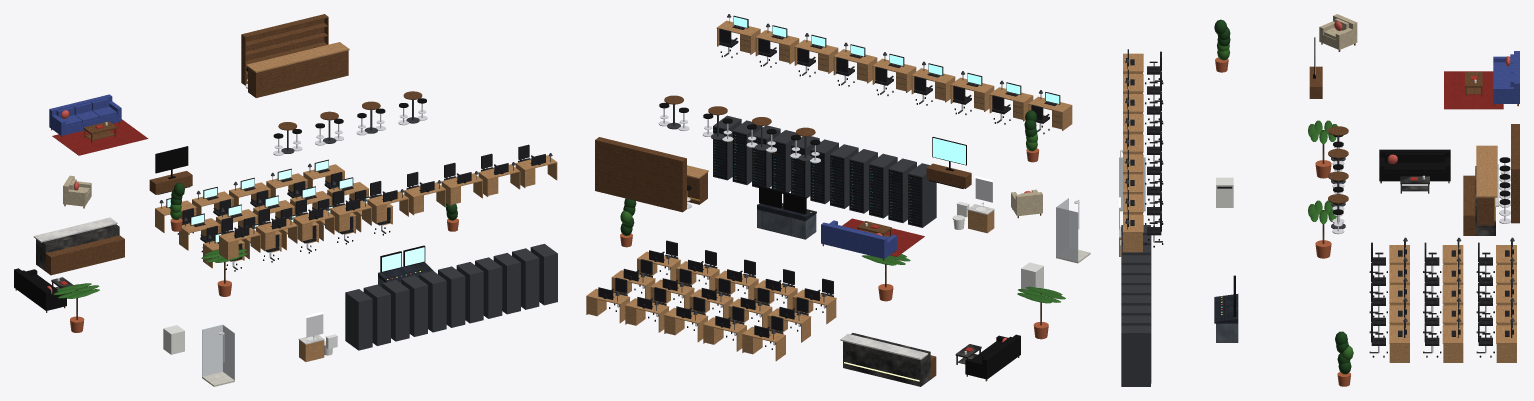
The model's file is i_esports_arena.gltf.
The picture shows the model from 3 angles, left to right: view 1: azimuth 30°, elevation 25°; view 2: azimuth 150°, elevation 25°; view 3: azimuth 270°, elevation 25°; orthographic projection. The views are drawn at different scales.
Parts seen in each view (by area): view 1: I_esports_arena; view 2: I_esports_arena; view 3: I_esports_arena.
Boxes of the visible parts, <box> form: I_esports_arena: <box>14,14,557,386</box>; I_esports_arena: <box>586,14,1090,386</box>; I_esports_arena: <box>1119,14,1519,386</box>.
Size of the model in its own units: 17.76 by 7 by 13.49.
Materials: 36 (12 with a texture image).
